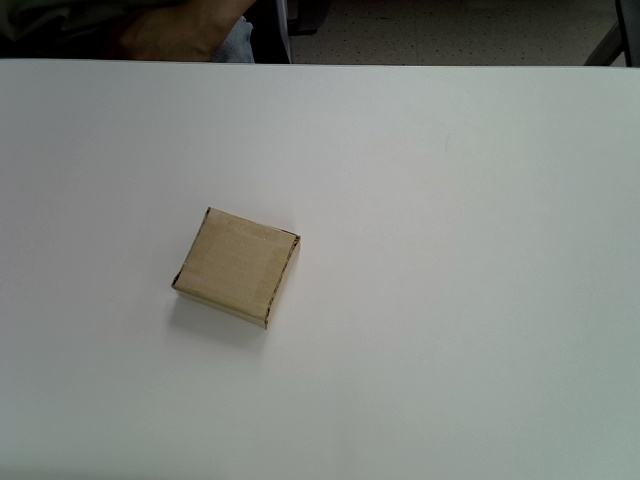normal: (170, 206, 302, 331)
